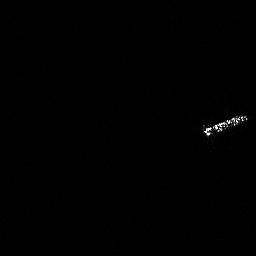ship: (201, 111, 249, 139)
